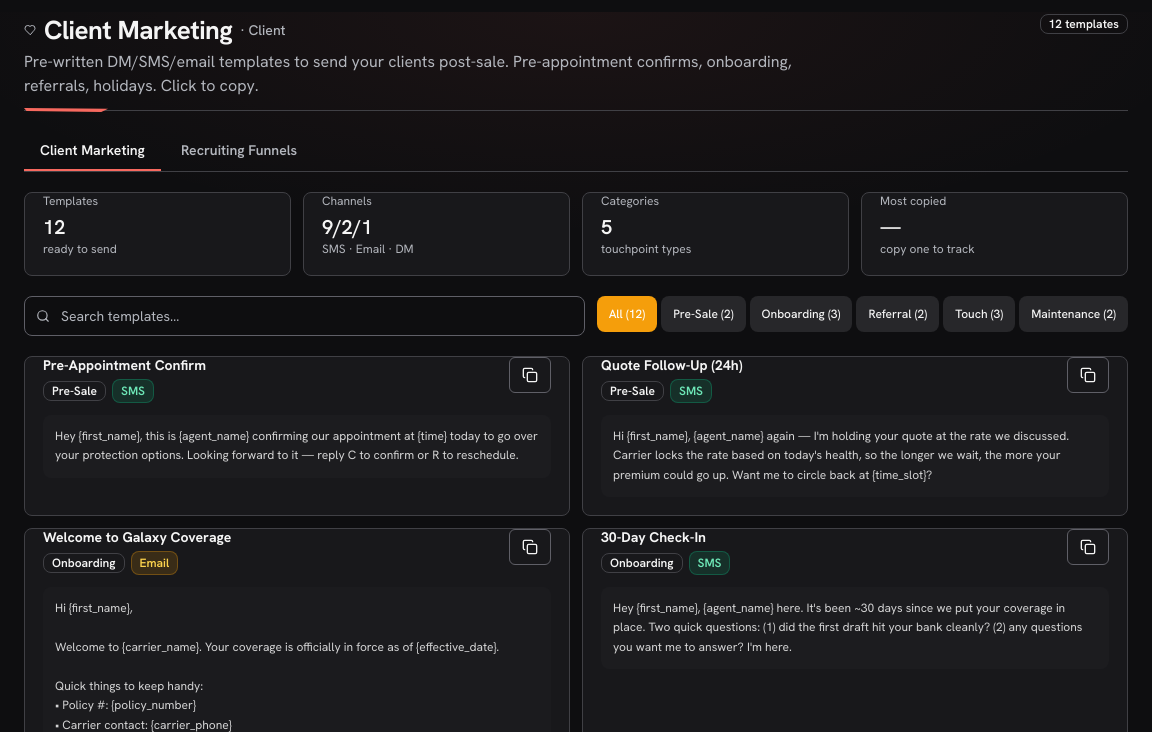
Scenario: Client Marketing recruiting access and counts › allows the real isAdmin role, but reads exact scoped counts only on the active funnel tab
Click the button "Recruiting Funnels" at x=239, y=151, box 165,131 -> 313,171
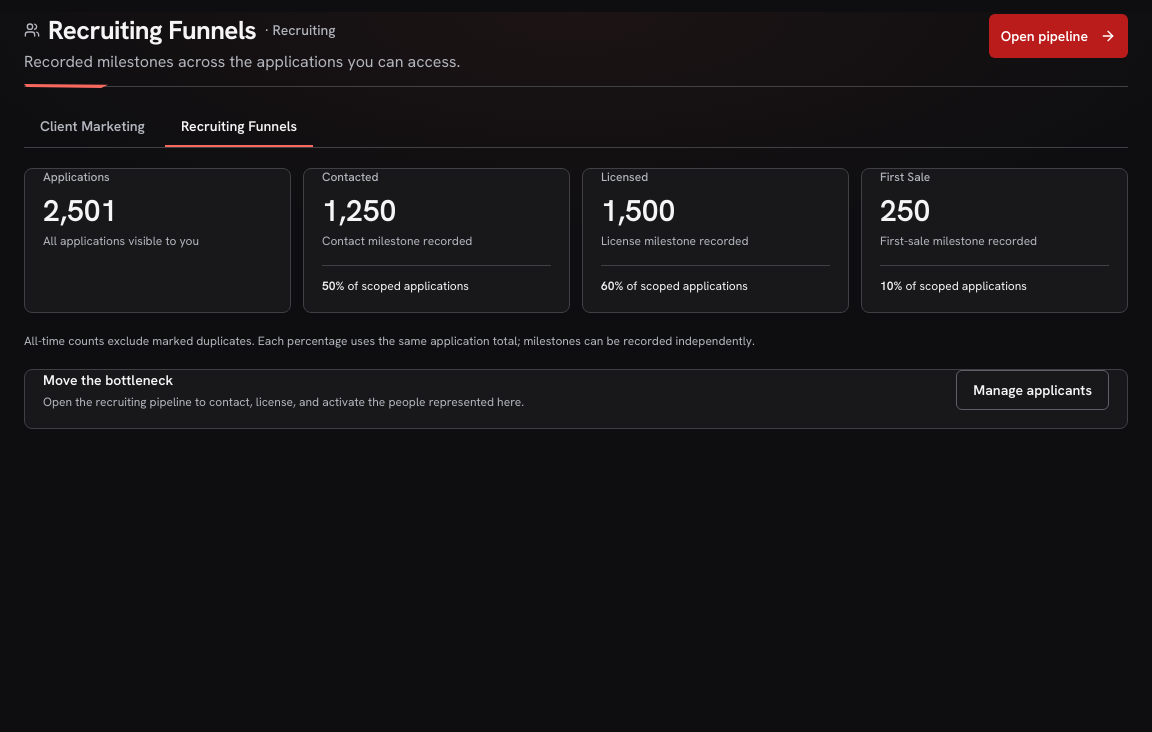
Now the text "2,501" is shown, box 43,191 -> 117,230
Now the text "60%" is shown, box 601,278 -> 623,294
Now the text "50%" is shown, box 322,278 -> 344,294
